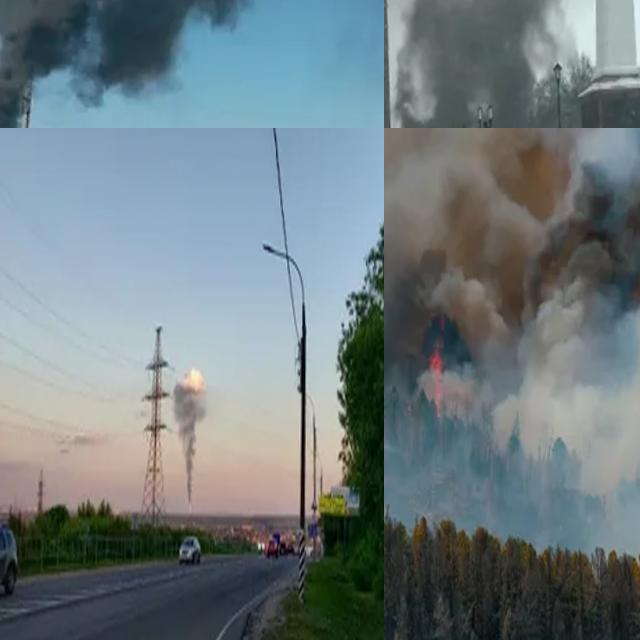smoke: (384, 128, 640, 397), (0, 0, 384, 128), (384, 0, 570, 128), (170, 366, 210, 504)
